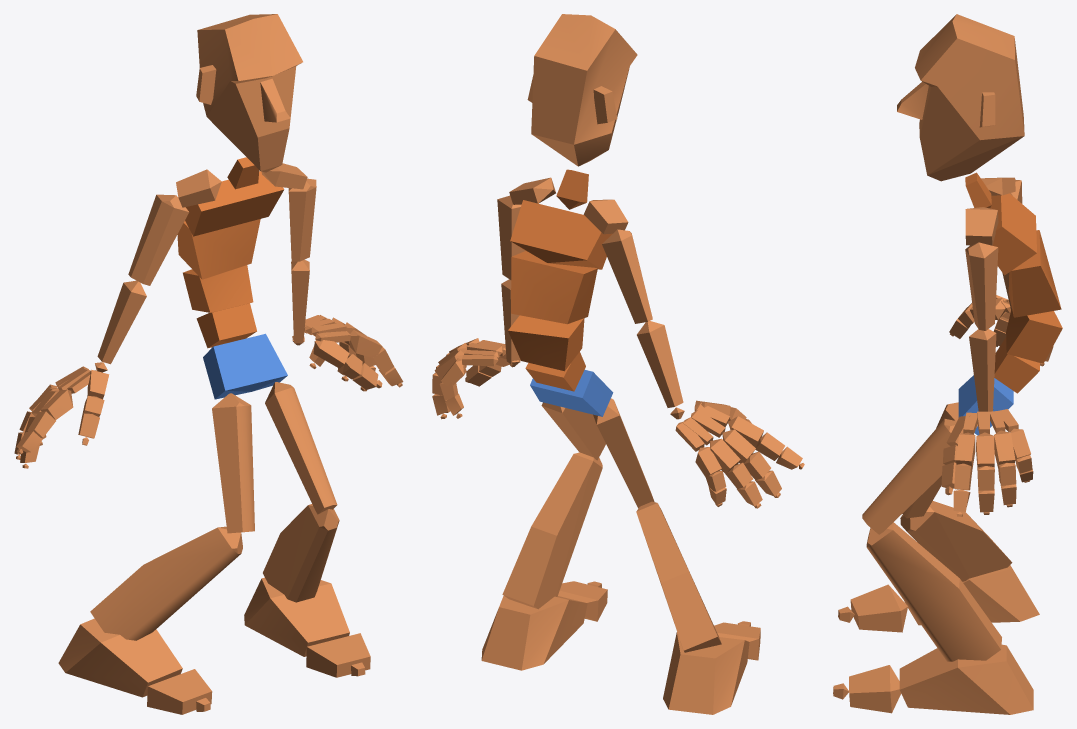
3 renders of one model, left to right at view 1: azimuth 30°, elevation 25°; view 2: azimuth 150°, elevation 25°; view 3: azimuth 270°, elevation 25°, orthographic. The views are drawn at different scales.
Visible parts, largest first — view 1: BOPED_Head, BOPED_R_leg, BOPED_R_foot, BOPED_R_foot01, BOPED_L_leg, BOPED_R_legup, BOPED_L_legup, Bone01, Bone05, Bone04, BOPED_R_arm_upper, Bone03 (+11 smaller); view 2: BOPED_Head, BOPED_L_leg, BOPED_R_foot01, BOPED_R_foot, BOPED_R_leg, Bone04, Bone05, Bone03, BOPED_R_arm_upper, BOPED_R_legup, BOPED_R_arm_fore, Bone01 (+11 smaller); view 3: BOPED_Head, BOPED_L_leg, BOPED_R_foot01, BOPED_R_leg, BOPED_L_legup, BOPED_R_foot, Bone05, Bone04, BOPED_L_arm_upper, Bone03, BOPED_R_foot_toe01, BOPED_R_foot_toe04 (+14 smaller).
Part boxes in pixels (x1,y1,x2,y2): BOPED_Head: [196, 14, 302, 172]; BOPED_R_leg: [90, 526, 242, 640]; BOPED_R_foot: [58, 618, 182, 697]; BOPED_R_foot01: [244, 577, 349, 656]; BOPED_L_leg: [263, 504, 339, 602]; BOPED_R_legup: [212, 393, 254, 533]; BOPED_L_legup: [265, 382, 337, 514]; Bone01: [203, 333, 287, 399]; Bone05: [185, 171, 284, 236]; Bone04: [177, 219, 260, 279]; BOPED_R_arm_upper: [128, 194, 189, 285]; Bone03: [183, 265, 253, 312]; BOPED_Head: [527, 14, 637, 166]; BOPED_L_leg: [502, 452, 602, 609]; BOPED_R_foot01: [481, 596, 587, 670]; BOPED_R_foot: [663, 632, 749, 714]; BOPED_R_leg: [636, 501, 721, 652]; Bone04: [511, 251, 597, 324]; Bone05: [510, 200, 612, 269]; Bone03: [508, 315, 584, 371]; BOPED_R_arm_upper: [602, 229, 652, 323]; BOPED_R_legup: [593, 398, 654, 508]; BOPED_R_arm_fore: [637, 321, 683, 407]; Bone01: [530, 370, 613, 416]; BOPED_Head: [897, 14, 1024, 181]; BOPED_L_leg: [866, 522, 1001, 661]; BOPED_R_foot01: [899, 644, 1033, 714]; BOPED_R_leg: [900, 501, 1012, 581]; BOPED_L_legup: [862, 419, 956, 534]; BOPED_R_foot: [904, 565, 1039, 625]; Bone05: [990, 193, 1036, 275]; Bone04: [1008, 230, 1061, 317]; BOPED_L_arm_upper: [965, 242, 998, 330]; Bone03: [1006, 308, 1062, 363]; BOPED_R_foot_toe01: [850, 584, 907, 632]; BOPED_R_foot_toe04: [849, 665, 901, 713].
Bounding box in the file's own units: 110 × 177 × 56.5.
